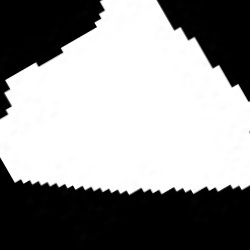spot: (2, 2, 249, 194)
